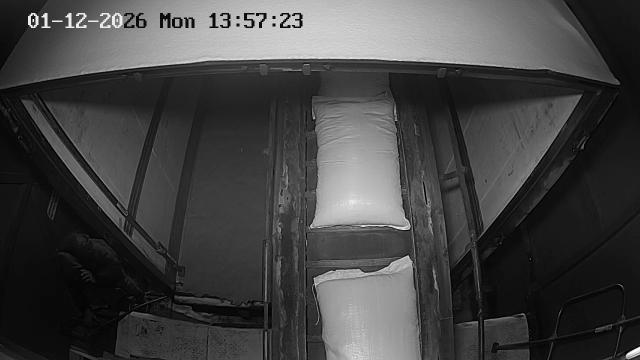bag: (312, 93, 409, 230), (314, 255, 421, 360), (320, 72, 398, 122)
